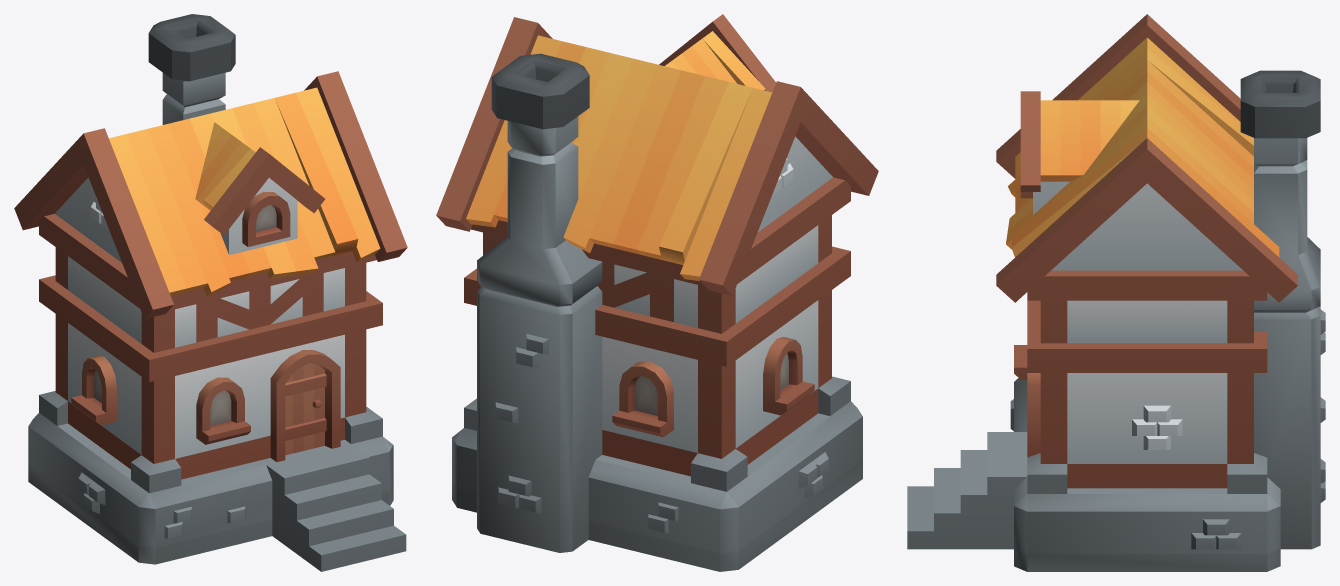
Rendered from building_home_B_yellow.glb.
The picture shows the model from 3 angles, left to right: view 1: azimuth 30°, elevation 25°; view 2: azimuth 150°, elevation 25°; view 3: azimuth 270°, elevation 25°; orthographic projection. The views are drawn at different scales.
Parts seen in each view (by area): view 1: building_home_B_yellow; view 2: building_home_B_yellow; view 3: building_home_B_yellow.
Boxes of the visible parts, <box> form: building_home_B_yellow: <box>14,14,407,571</box>; building_home_B_yellow: <box>436,14,878,571</box>; building_home_B_yellow: <box>907,14,1325,571</box>.
Size of the model in its own units: 0.8749 by 1.28 by 1.1.
1 material, 1 textured.
